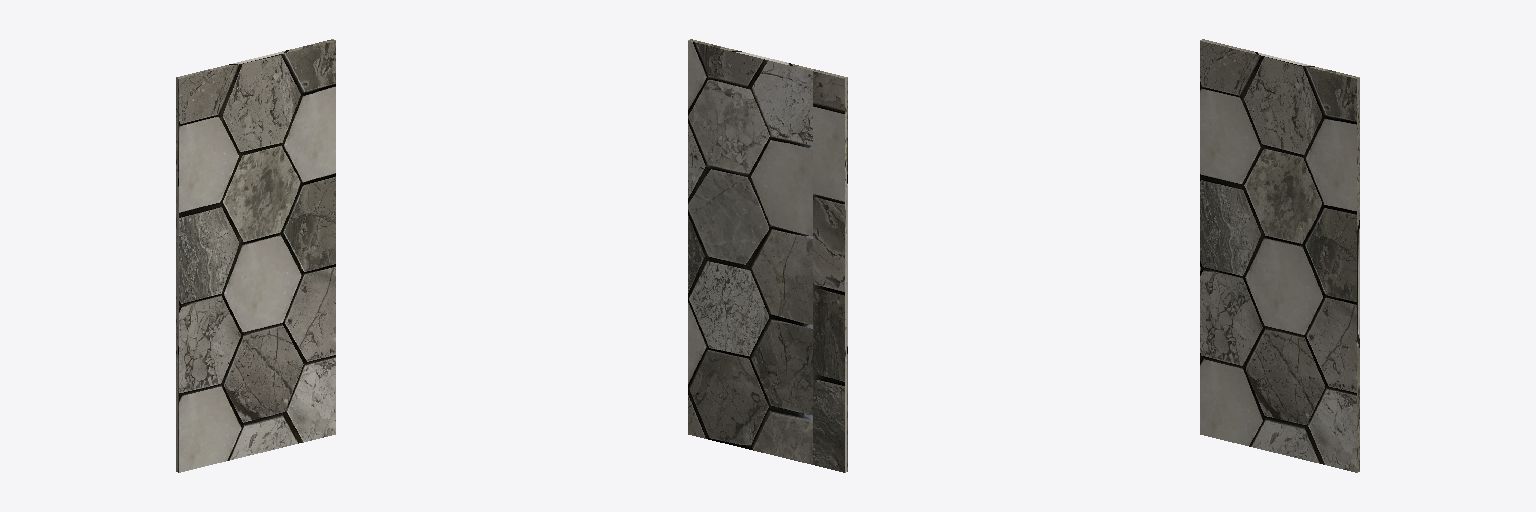
3 views of the same model, side by side, from view 1: azimuth 30°, elevation 25°; view 2: azimuth 150°, elevation 25°; view 3: azimuth 330°, elevation 25° (orthographic).
Parts seen in each view (by area): view 1: /ambf/env/FixedBase_FixedBase_/ambf/env/Cube_Cube; view 2: /ambf/env/FixedBase_FixedBase_/ambf/env/Cube_Cube; view 3: /ambf/env/FixedBase_FixedBase_/ambf/env/Cube_Cube.
Part boxes in pixels (bbox=[...]): /ambf/env/FixedBase_FixedBase_/ambf/env/Cube_Cube: bbox=[176, 39, 335, 472]; /ambf/env/FixedBase_FixedBase_/ambf/env/Cube_Cube: bbox=[688, 39, 847, 472]; /ambf/env/FixedBase_FixedBase_/ambf/env/Cube_Cube: bbox=[1200, 39, 1359, 472].
Bounding box in the file's own units: 0.9833 × 2.35 × 0.0259.
1 materials, 1 textured.